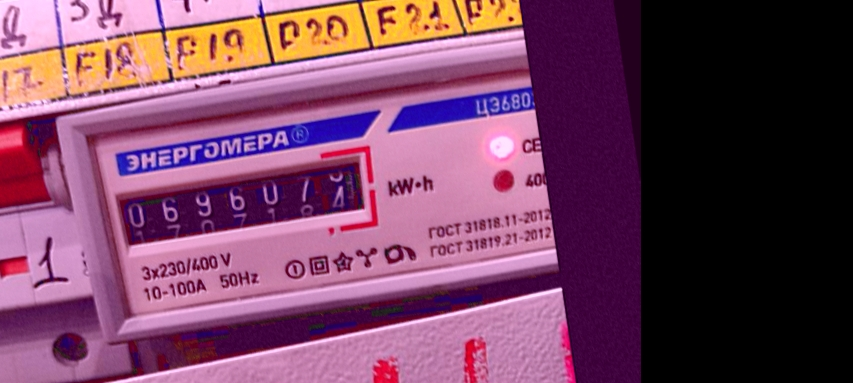0: (257, 179, 279, 211), (124, 203, 144, 233)
4: (325, 184, 346, 215)
6: (224, 185, 245, 216), (157, 197, 178, 227)
7: (290, 174, 314, 208)
9: (190, 192, 212, 222)
screen: (98, 144, 385, 268)
